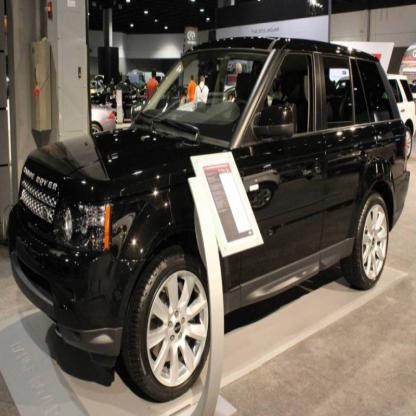Vehicle: (6, 32, 411, 402)
